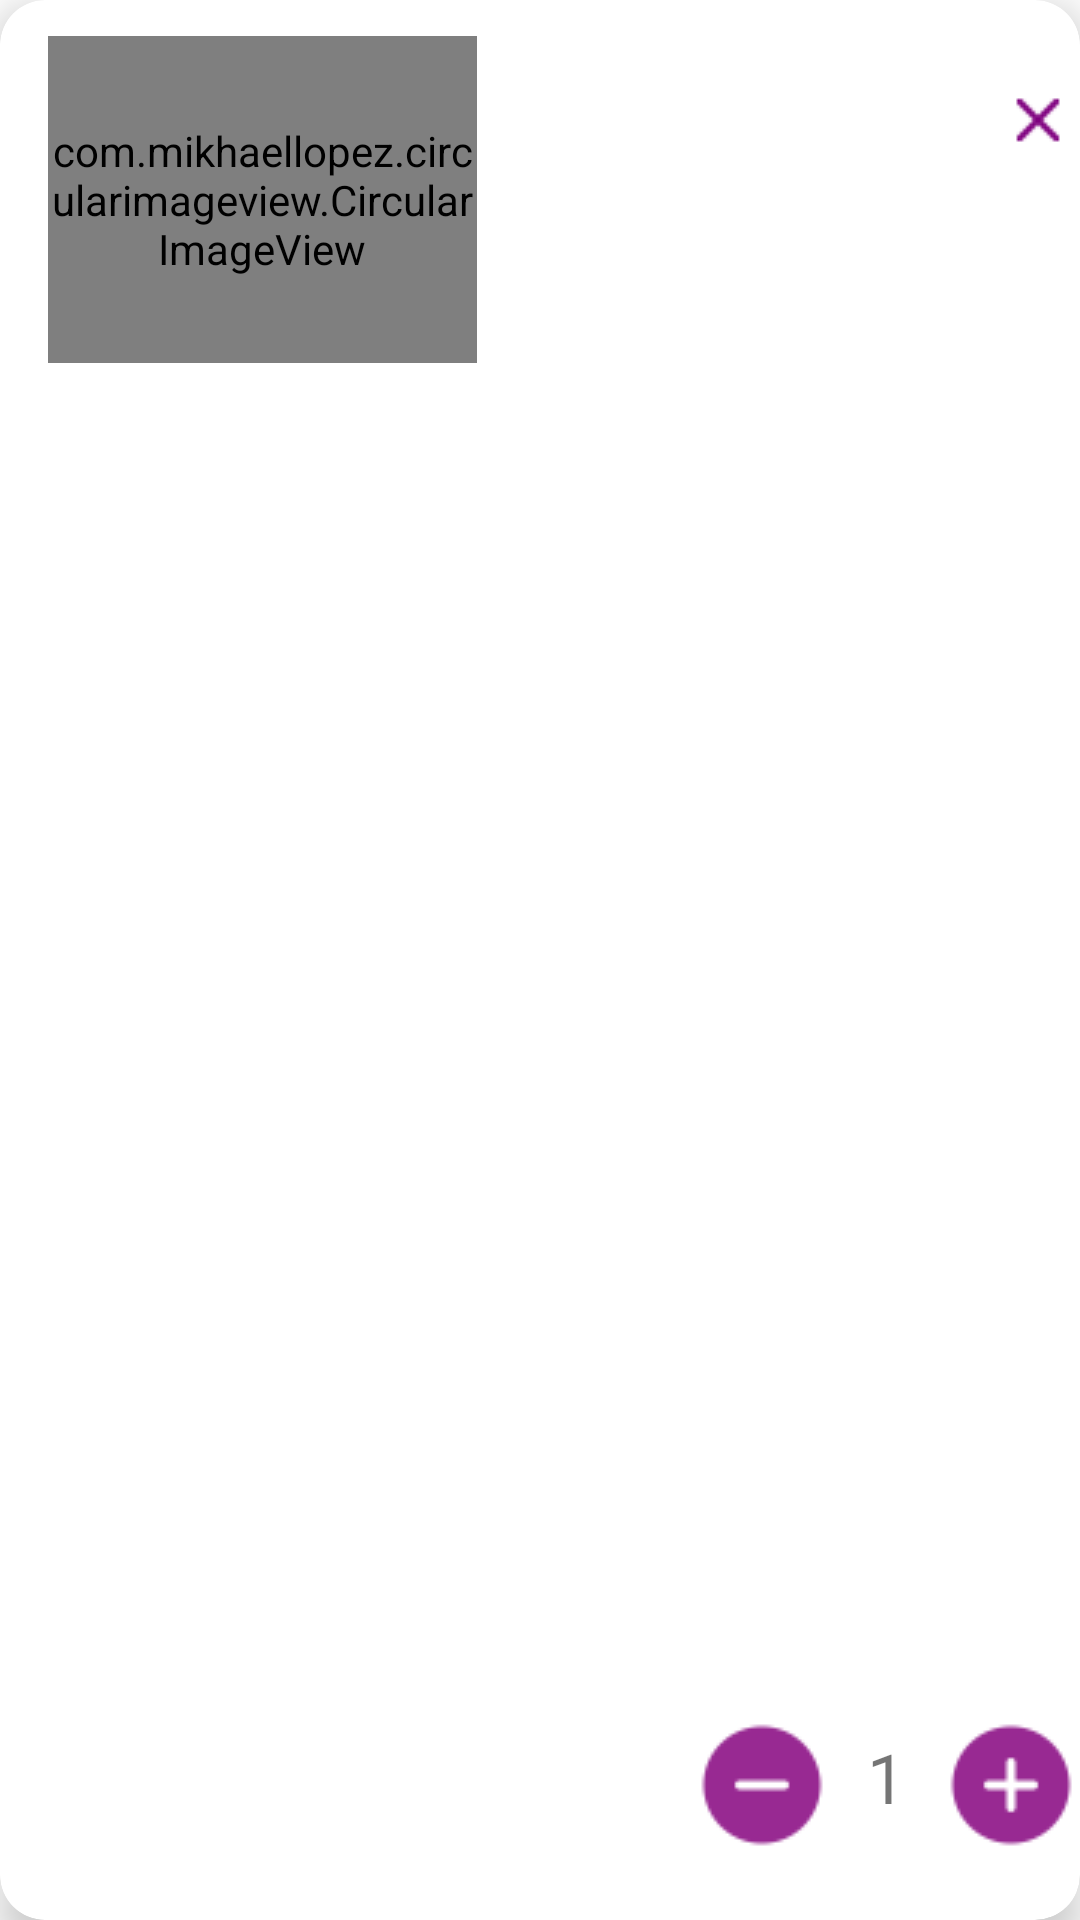

Icons on this 1080×1920 Android screen, each with its box as [left=x1, top=y1, right=x2, bottom=y2]:
minus image: [left=701, top=1724, right=823, bottom=1846]
plus image: [left=950, top=1724, right=1072, bottom=1846]
